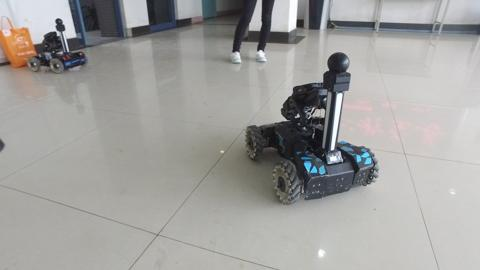bag: (1, 13, 39, 68)
chariot: (244, 50, 380, 206), (27, 17, 89, 75)
